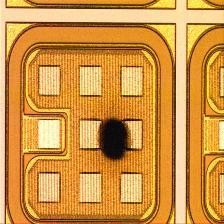PARTICLE: (97, 117, 134, 164)
